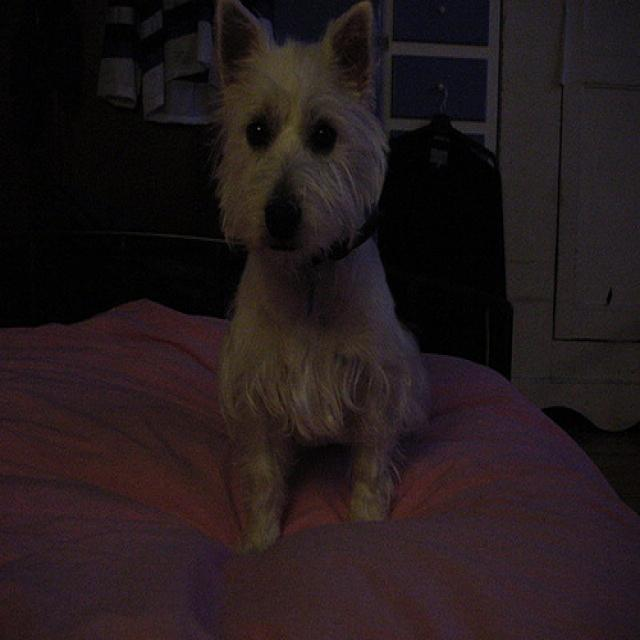Dog: (190, 14, 442, 519)
